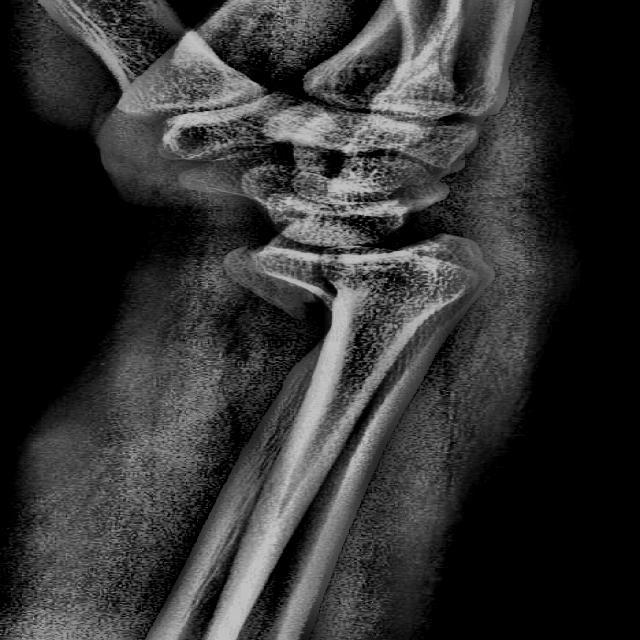fracture: (296, 258, 340, 318)
